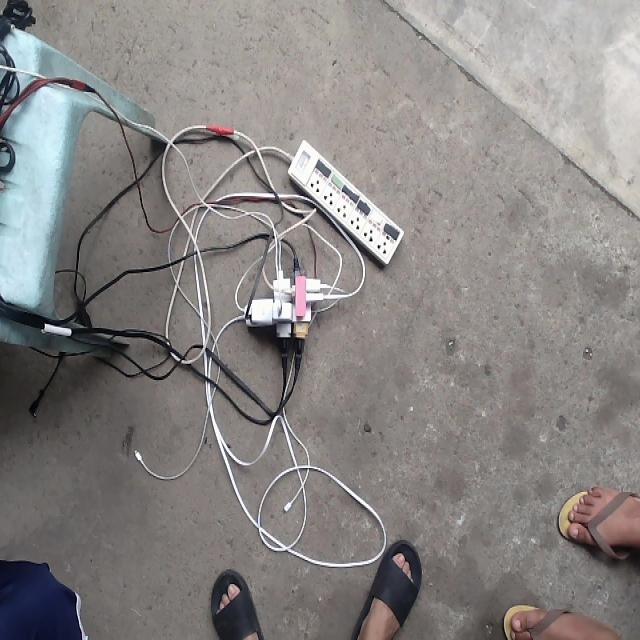-: (234, 252, 333, 375)
